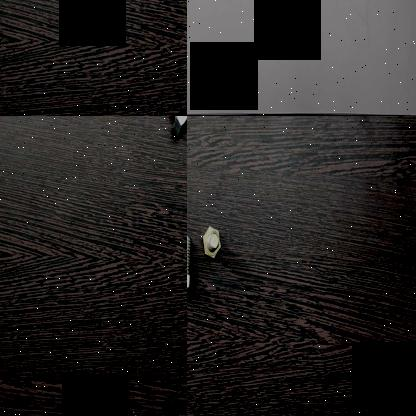Bolts: (200, 222, 223, 264), (187, 231, 199, 303), (159, 116, 187, 135)
